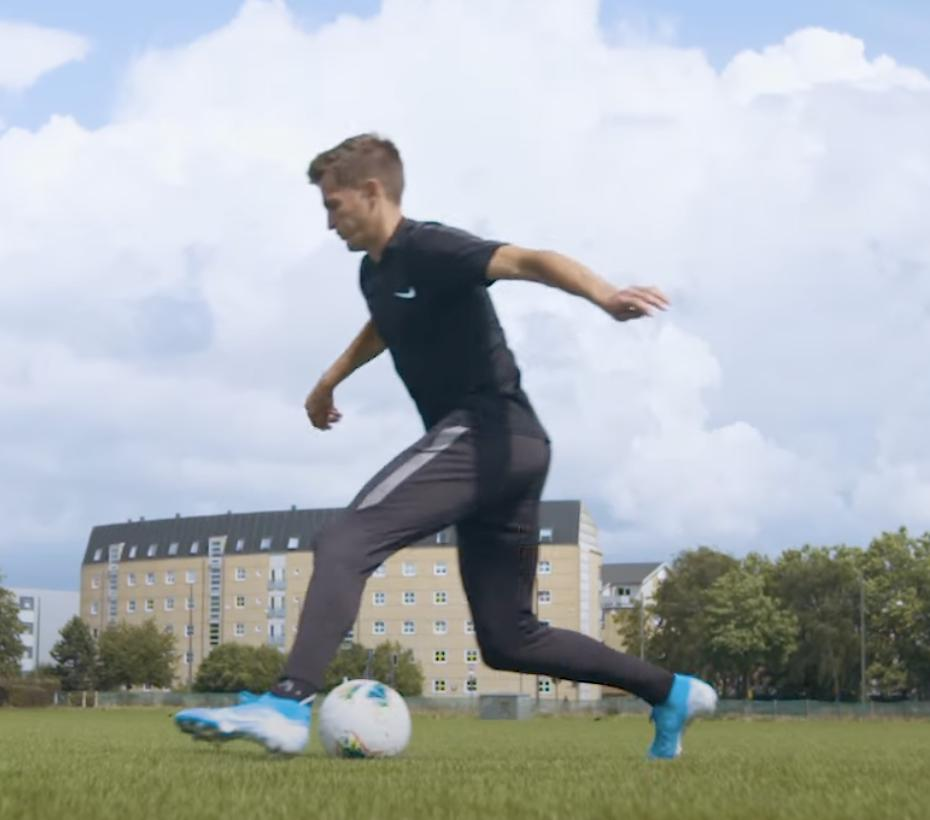ball: (316, 678, 411, 763)
foot: (175, 691, 314, 758), (650, 673, 714, 763)
person: (175, 139, 719, 760)
